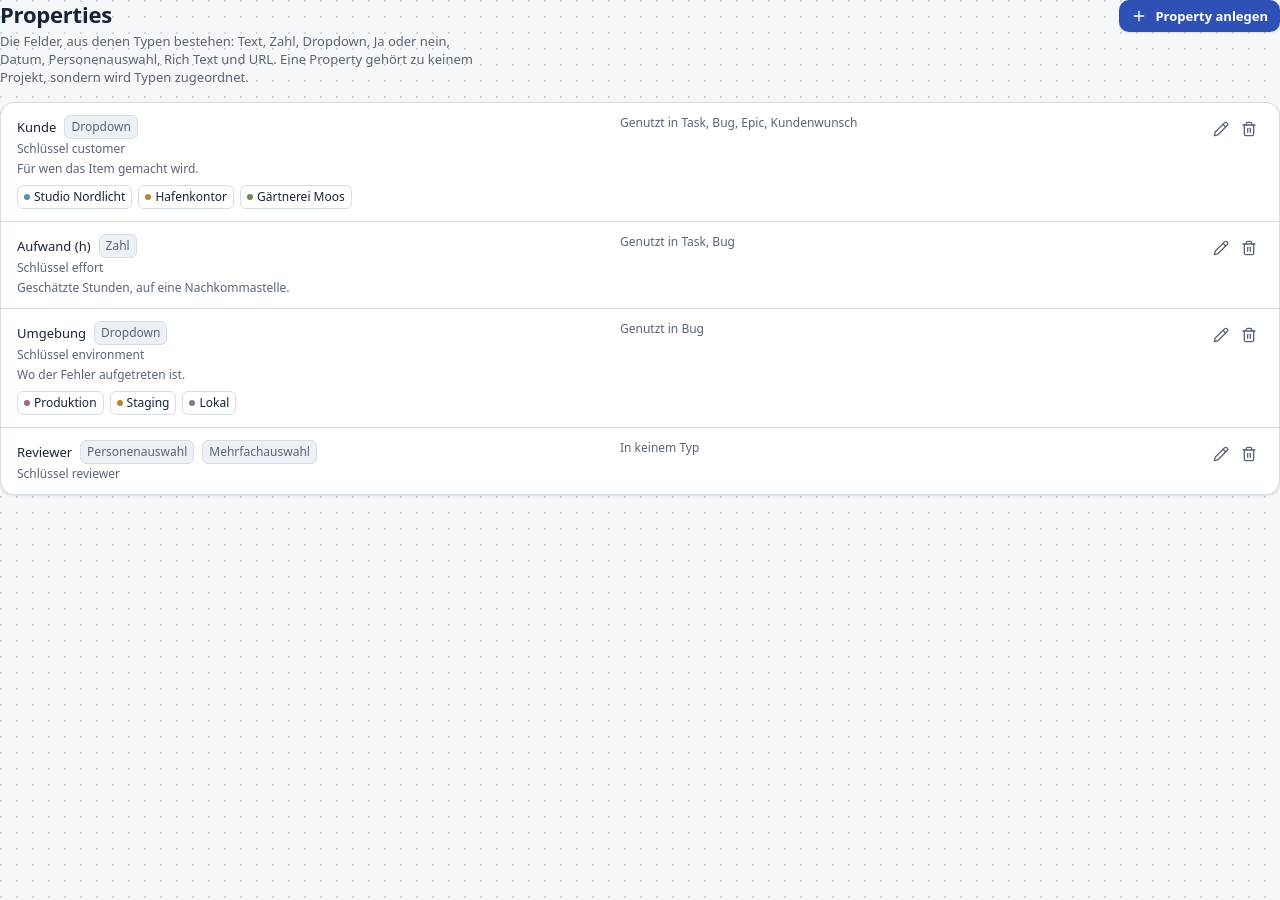
Properties › shows the refusal of a core key at the key, with the focus there, and one without a field on top
The image size is (1280, 900).
Click the button "Property anlegen". click: (1200, 16)
box: [1119,0,1279,32]
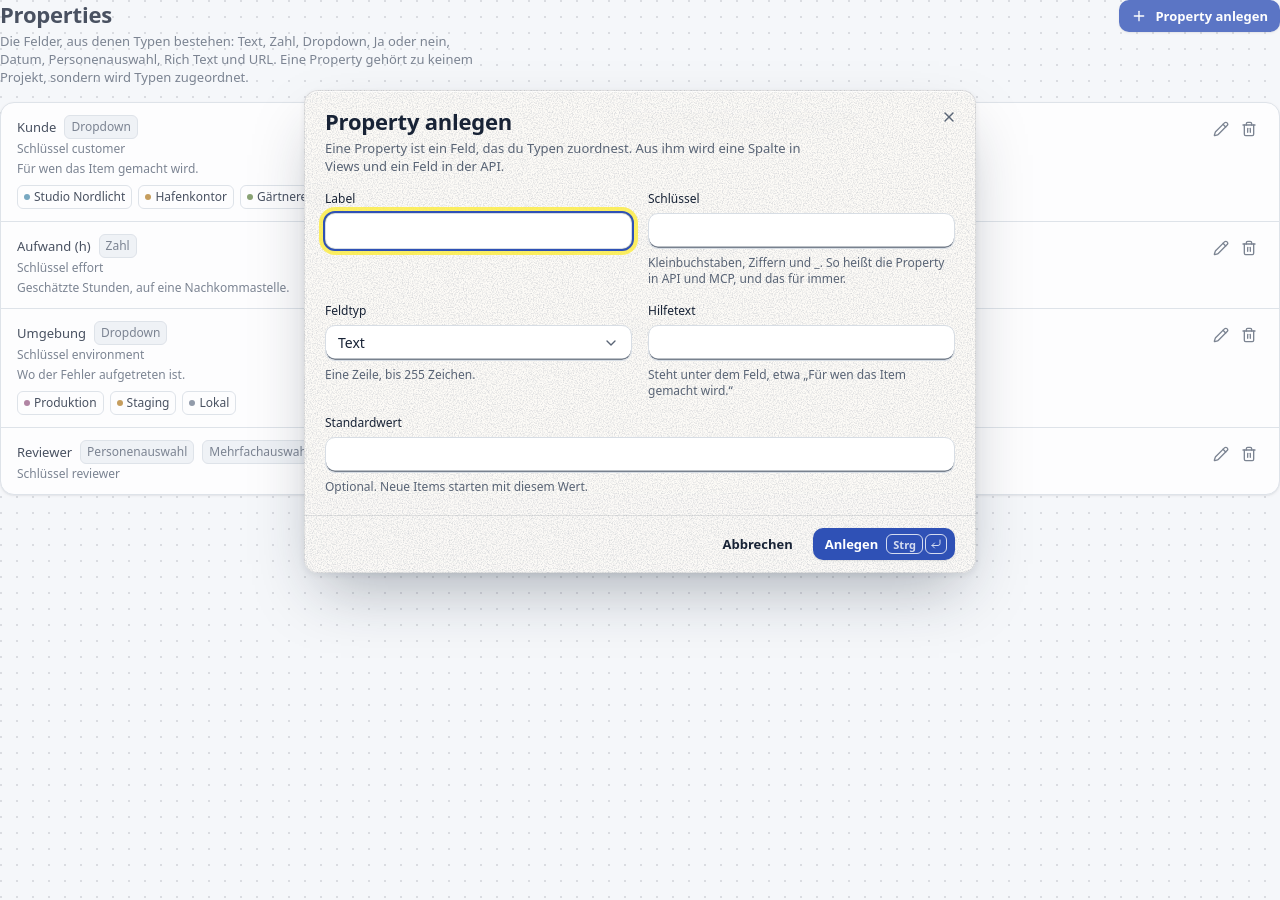
Type "Title" into the field labelled "Label". click: (478, 231)
box: [325,213,632,249]
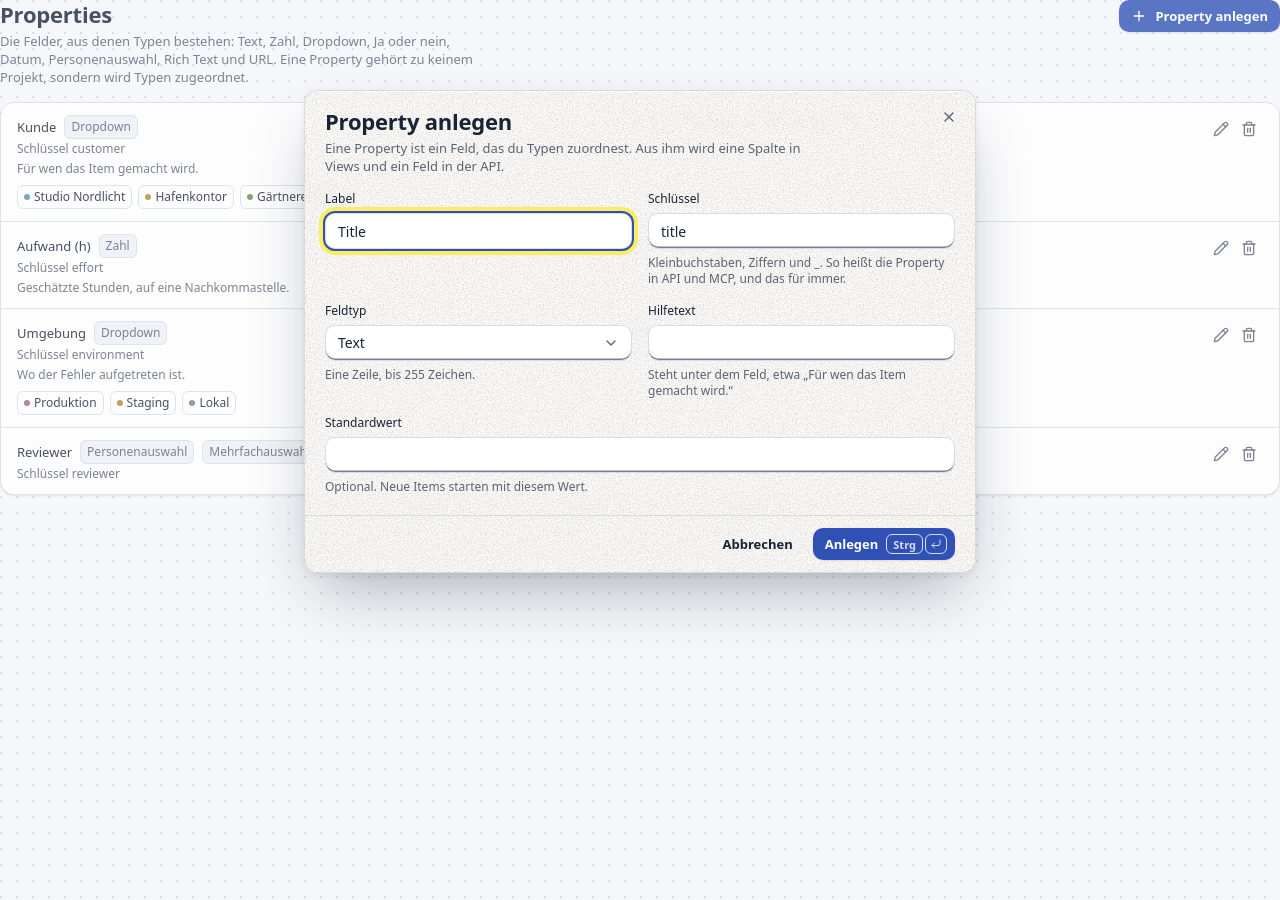
Type "  Der Titel.  " into the field labelled "Hilfetext". click: (802, 343)
box: [648,325,955,361]
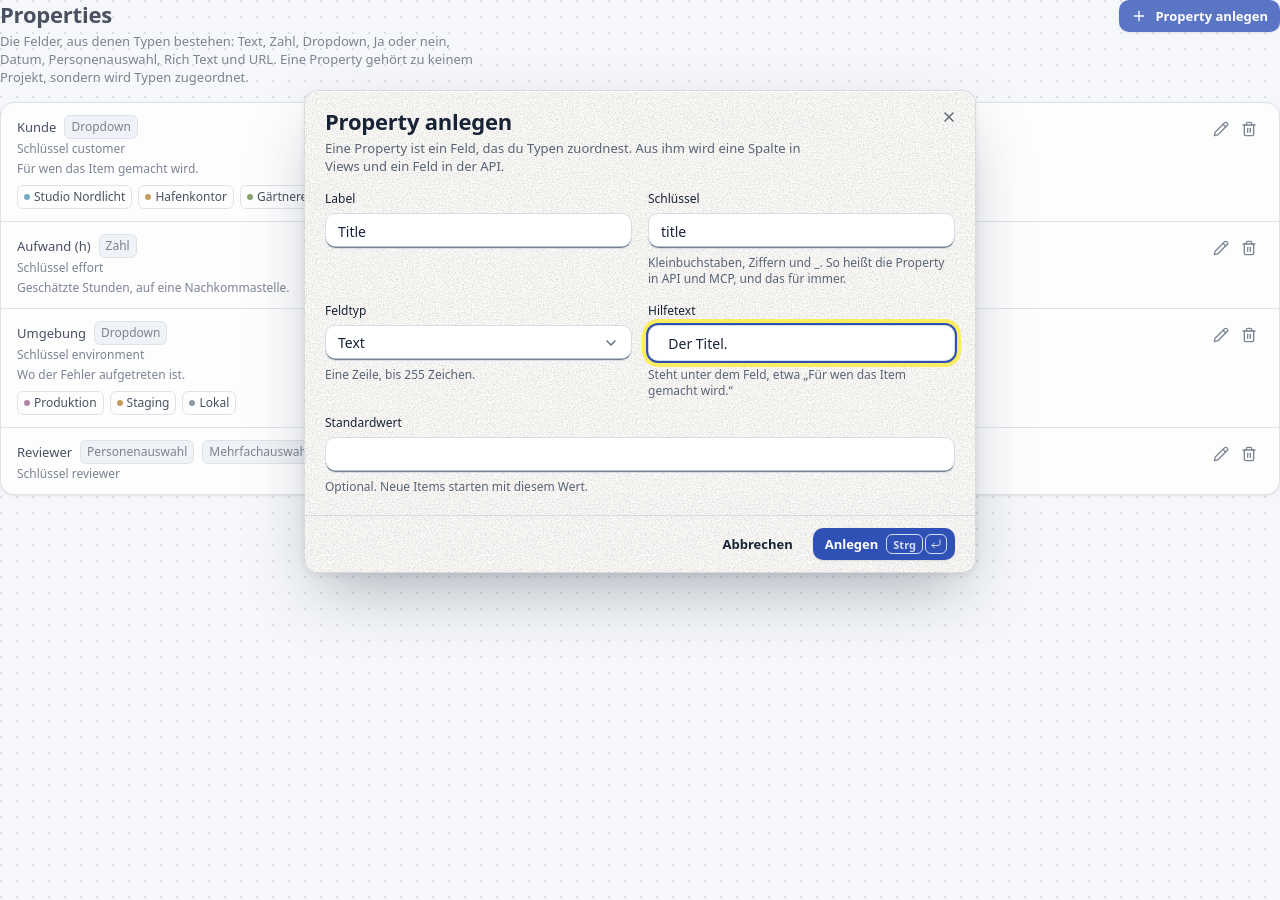
Click the button "Anlegen Strg". click: (884, 544)
box: [813,528,955,560]
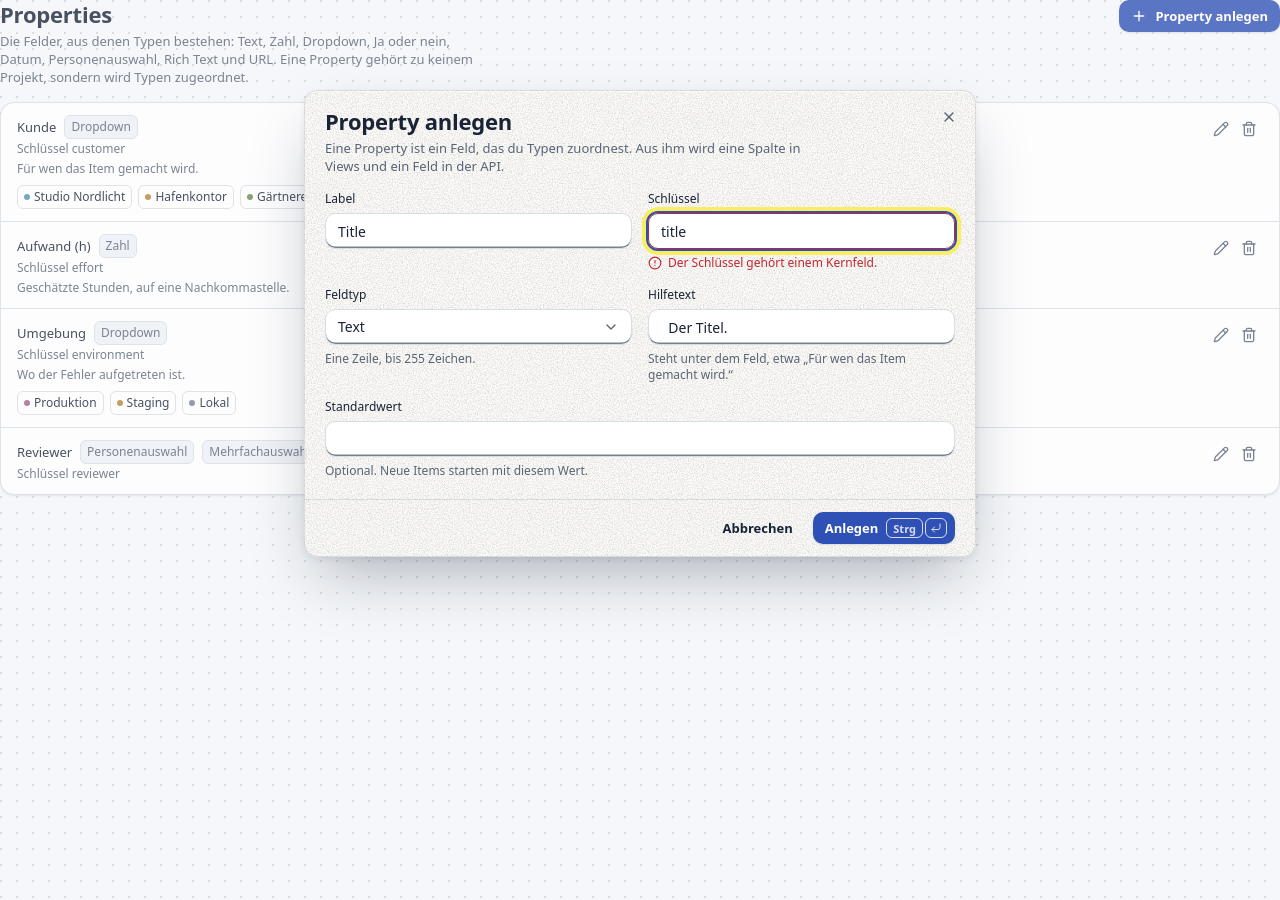
Expected: the text "Der Schlüssel gehört einem Kernfeld." is shown, [648,254,877,271]
Click the button "Anlegen Strg". click: (884, 528)
box: [813,512,955,544]
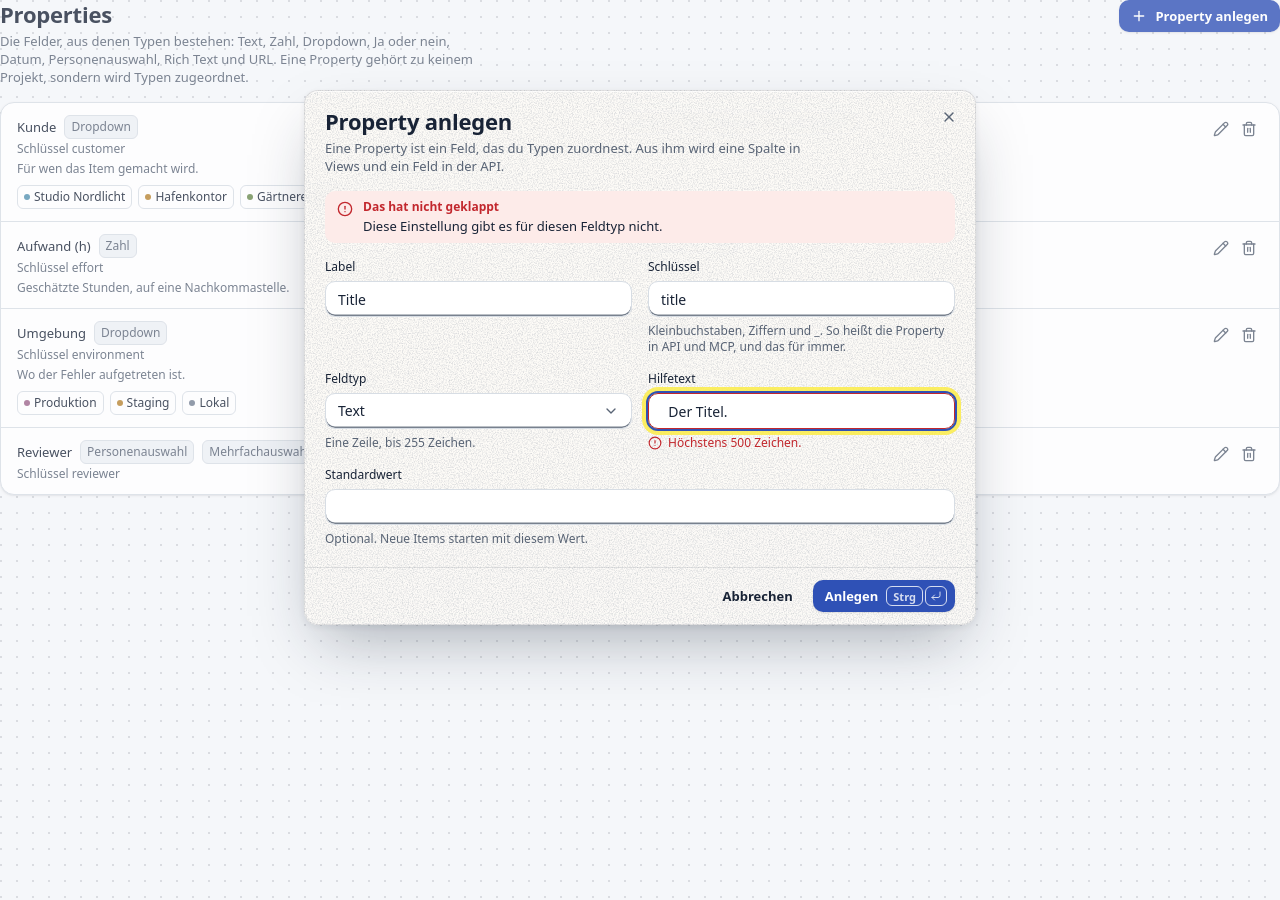
Expected: the text "Höchstens 500 Zeichen." is shown, [648,434,802,451]
Expected: the message shows "Diese Einstellung gibt es für diesen Feldtyp nicht.", [363,217,662,235]
